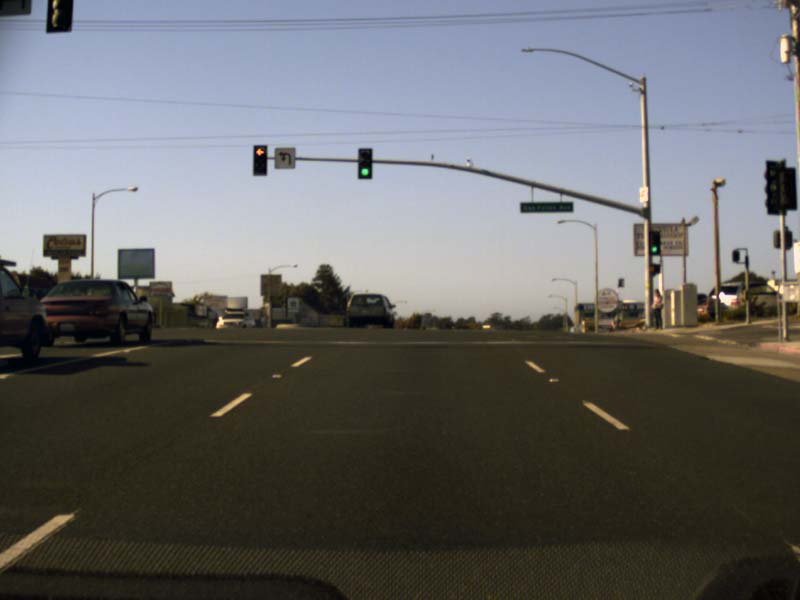Green: (359, 150, 371, 177), (649, 232, 659, 254)
Red: (253, 145, 265, 173)
